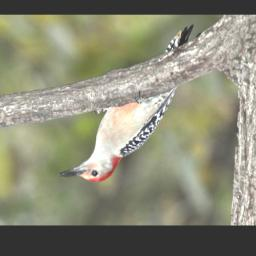Woodpecker: (56, 23, 195, 183)
